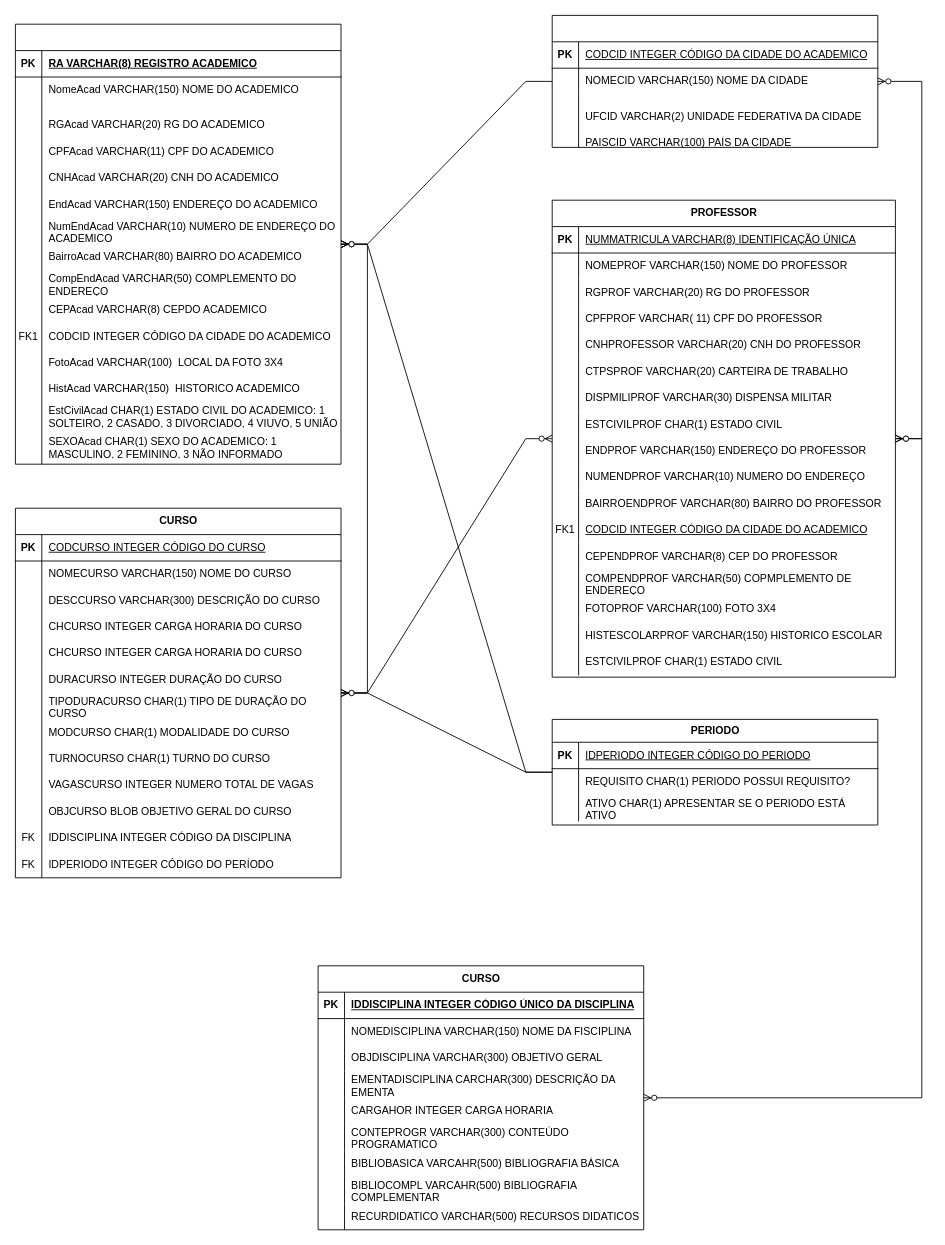
Image size: 945x1245. Some labels were removed from this diagram. The box of each missing label's shape, as (x1, y1, x2, y2) in pixels:
ALUNOS: (15, 23, 341, 464)
CIDADES: (551, 15, 878, 147)
